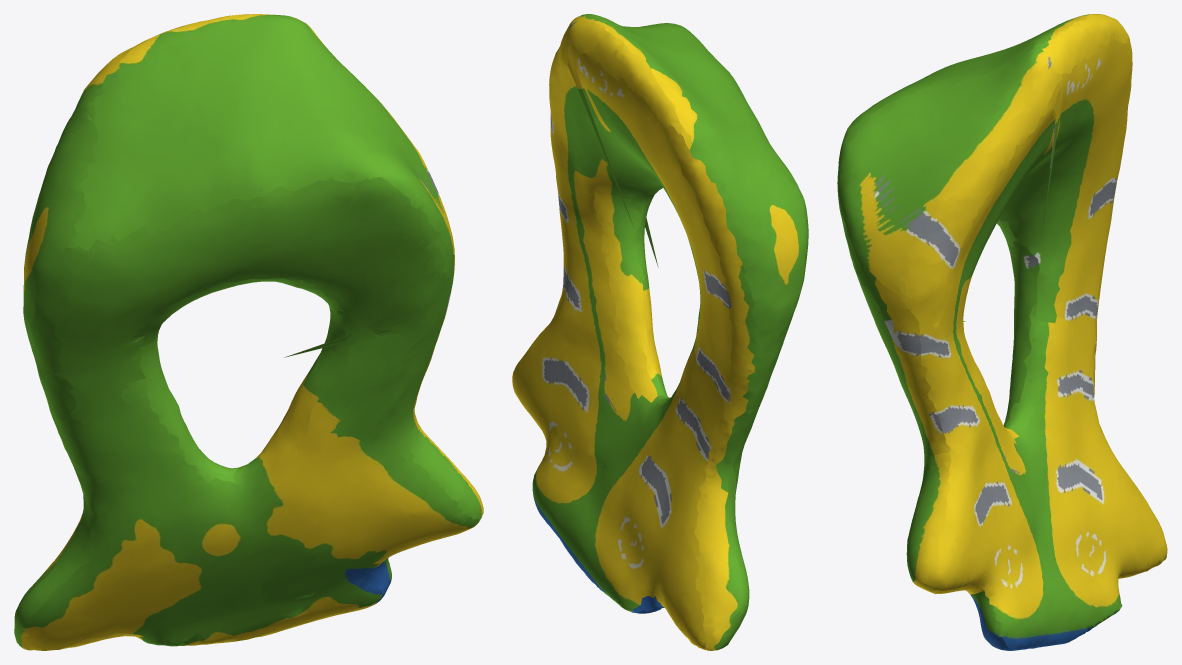
Rendered from endrise.glb.
3 views of the same model, side by side, from view 1: azimuth 30°, elevation 25°; view 2: azimuth 150°, elevation 25°; view 3: azimuth 270°, elevation 25° (orthographic). The views are drawn at different scales.
Visible parts, largest first — view 1: geometry_0; view 2: geometry_0; view 3: geometry_0.
Boxes of the visible parts, <box> form: geometry_0: <box>14,14,483,650</box>; geometry_0: <box>512,14,808,650</box>; geometry_0: <box>837,14,1167,650</box>.
Size of the model in its own units: 0.6071 by 0.9366 by 0.4634.
1 material, 1 textured.
